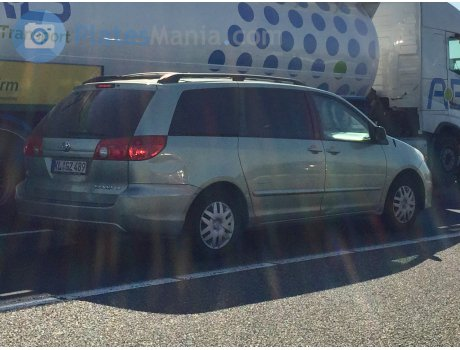License Plates: (53, 159, 86, 171)
